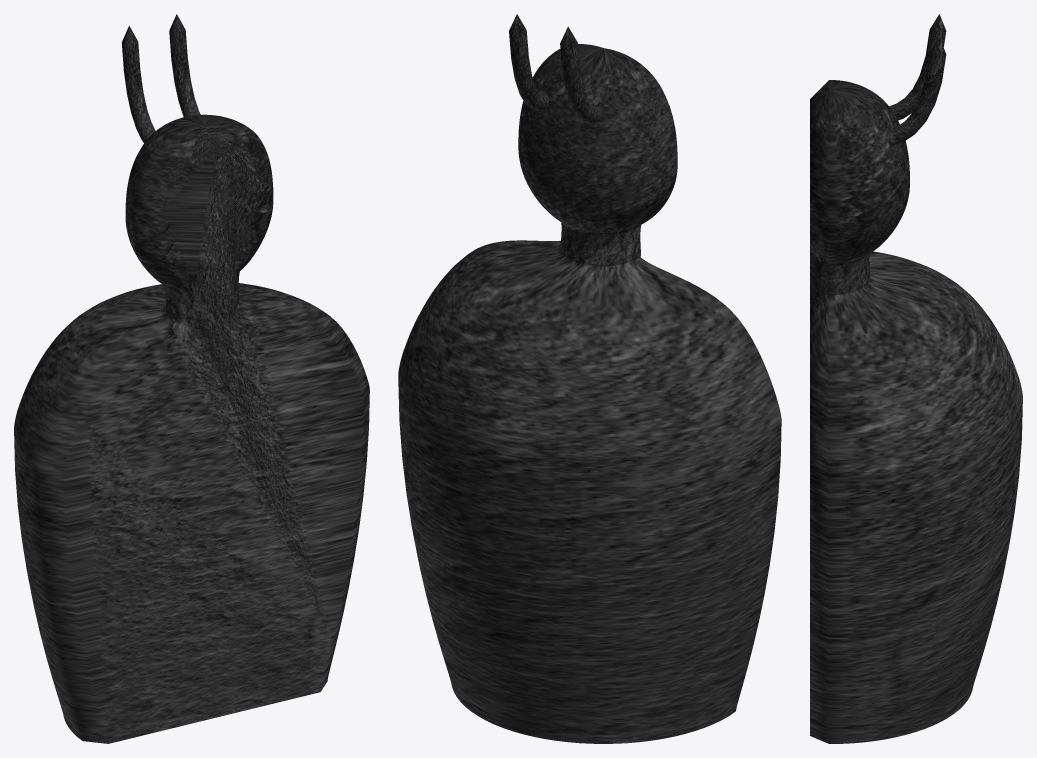
File: Devil.glb
3 renders of one model, left to right at view 1: azimuth 30°, elevation 25°; view 2: azimuth 150°, elevation 25°; view 3: azimuth 270°, elevation 25°, orthographic. The views are drawn at different scales.
Parts seen in each view (by area): view 1: Devil; view 2: Devil; view 3: Devil.
Part boxes in pixels (x1,y1,x2,y2): Devil: (14, 14, 369, 743); Devil: (398, 14, 781, 743); Devil: (810, 14, 1022, 743).
Bounding box in the file's own units: 1.25 × 2.36 × 0.6902.
1 material, 1 textured.
